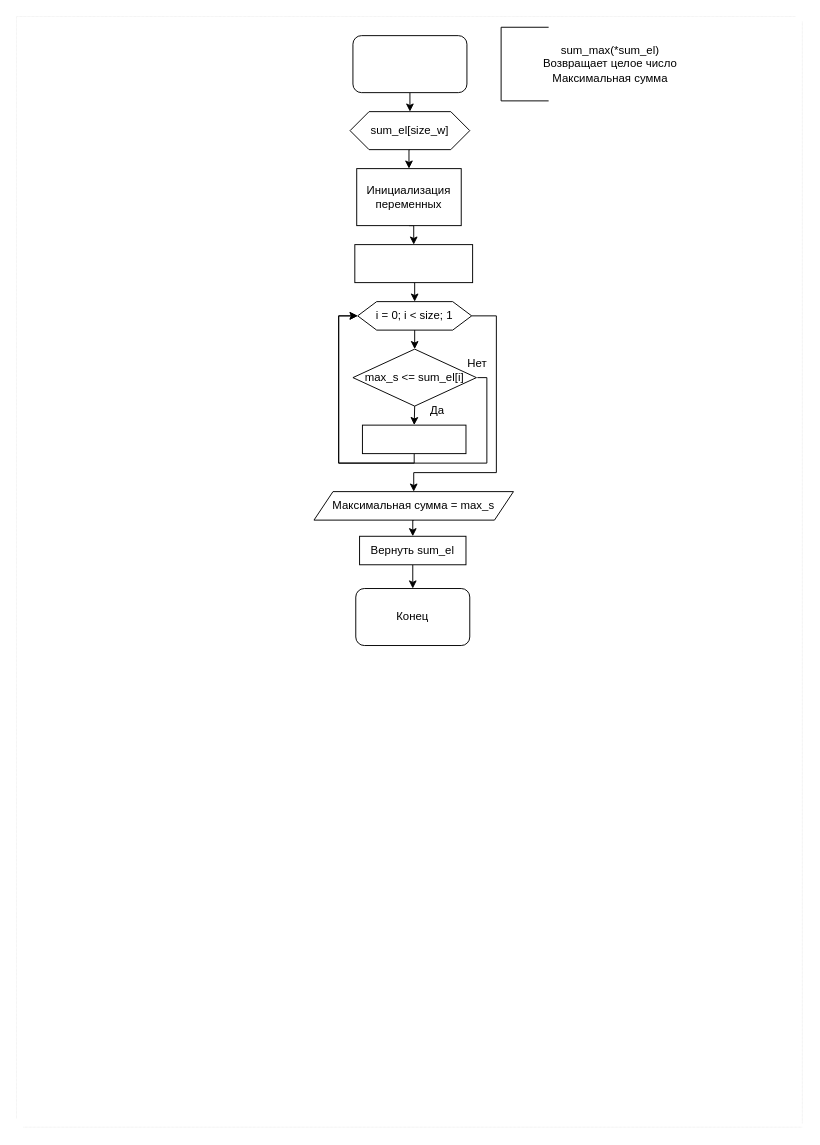
Image size: 820x1145. Some labels were removed from this diagram. Each missing label, with the centre of its shape:
"max_s = sum_el[0]" belongs at point (413, 263).
"max_s = sum_el[i]" belongs at point (413, 439).
"Начало" belongs at point (409, 64).
